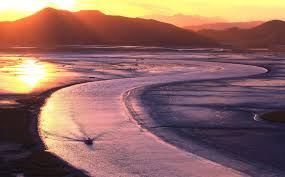ground: (3, 51, 285, 174)
mountain: (4, 10, 284, 48)
